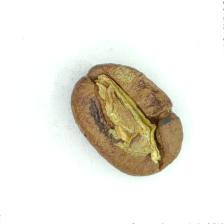NG: (92, 71, 166, 163)
